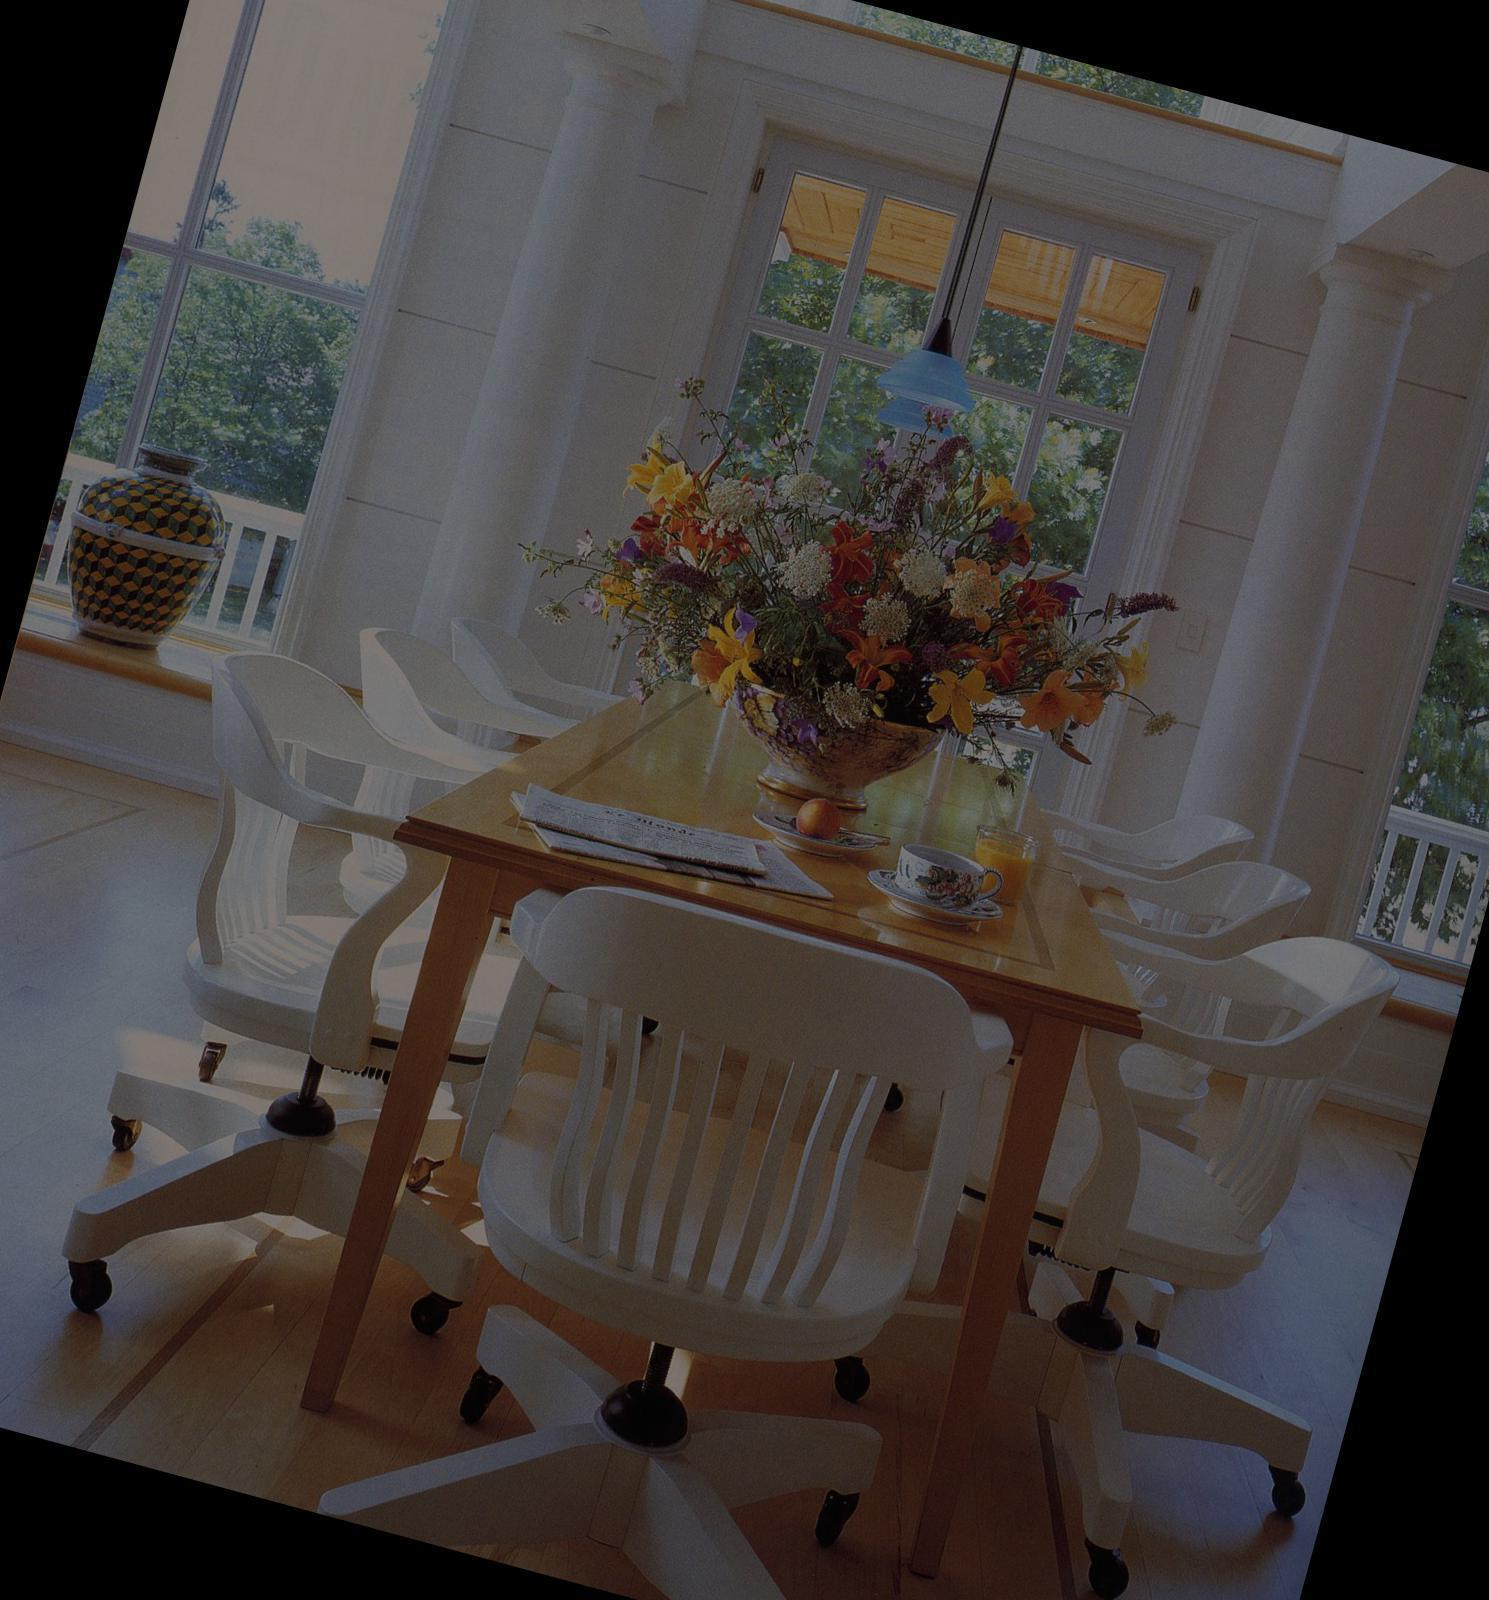Matera: (586, 403, 1099, 850)
